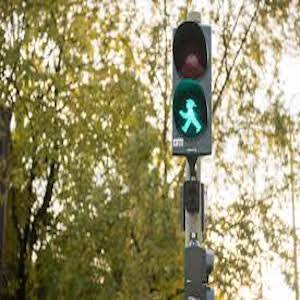green: (172, 95, 205, 137)
